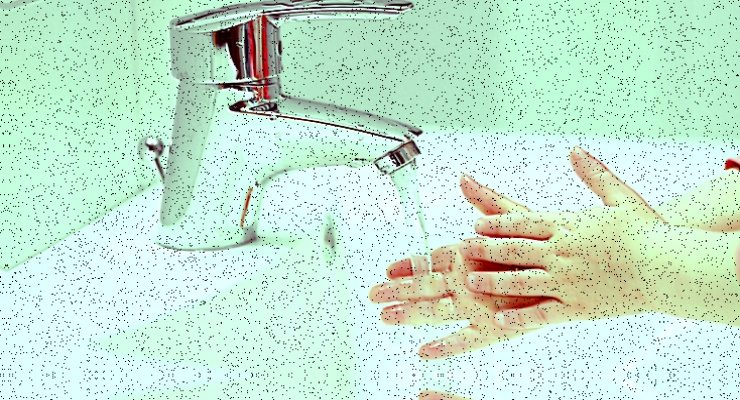washing hand: (224, 0, 647, 365)
